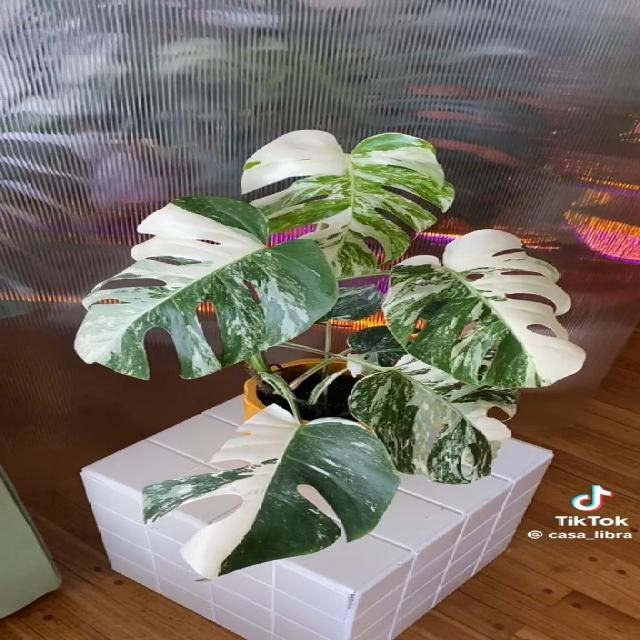lisc_variegata: (73, 196, 339, 381), (138, 403, 400, 582), (242, 129, 456, 278), (387, 229, 586, 389), (347, 358, 518, 485), (346, 325, 409, 378), (316, 286, 384, 324)
roslina_variegata: (72, 130, 586, 583)
